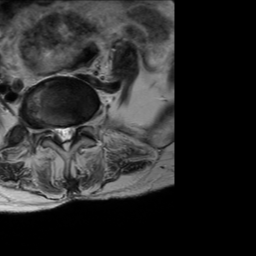CCS_normal: (61, 118, 69, 156)
LFS_severe_stenosis: (76, 115, 83, 138)
LLS_normal: (69, 117, 76, 144)
RFS_severe_stenosis: (45, 118, 53, 140)
RLS_normal: (53, 119, 61, 142)
